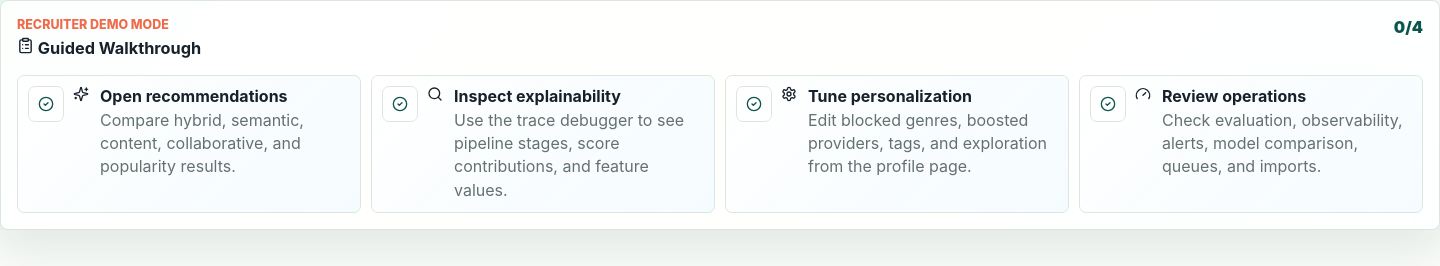
Test: DemoGuide › renders guided recruiter checklist and tracks completion
Check: the heading "Guided Walkthrough" is shown, box x1=17 y1=37 x2=201 y2=58
Check: the text "Open recommendations" is shown, box x1=100 y1=86 x2=288 y2=106
Click the button titled "Mark Open recommendations".
click(46, 104)  # box x1=28 y1=86 x2=64 y2=122
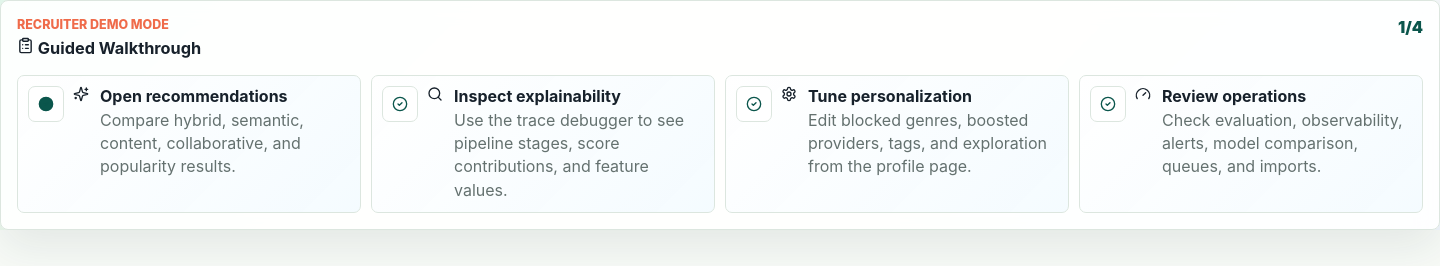
Check: the text "1/4" is shown, box x1=1398 y1=17 x2=1423 y2=37
